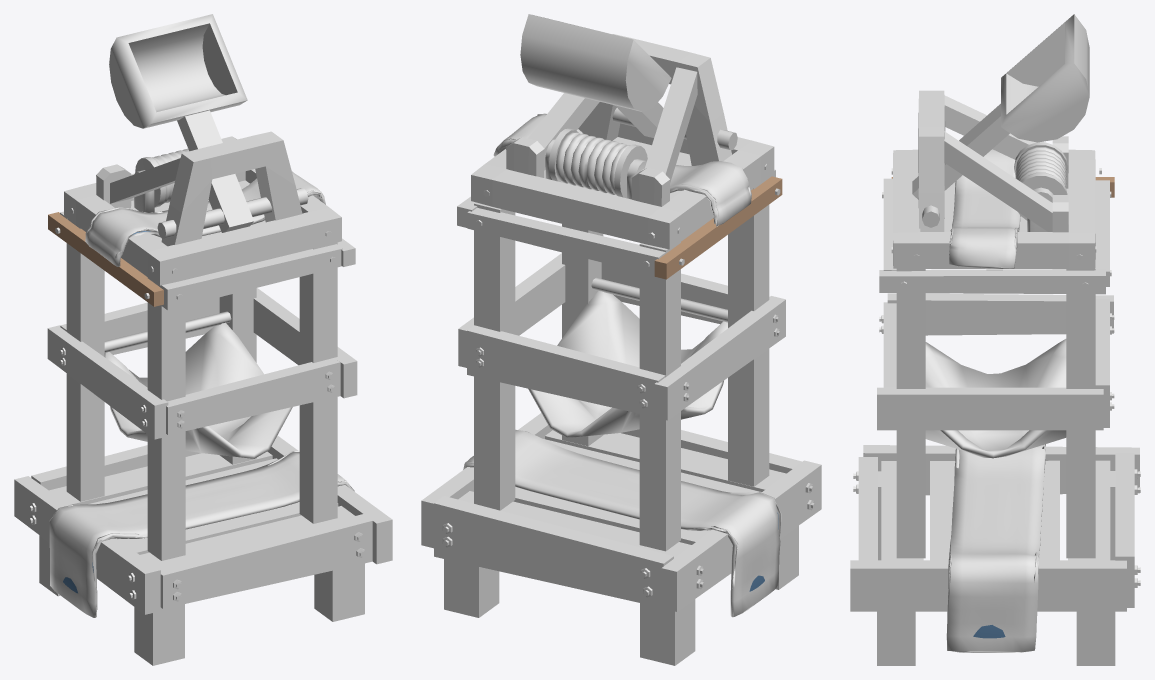
Rendered from area tower tier 3 rotate.fbx.
The picture shows the model from 3 angles, left to right: view 1: azimuth 30°, elevation 25°; view 2: azimuth 150°, elevation 25°; view 3: azimuth 270°, elevation 25°; orthographic projection. The views are drawn at different scales.
Visible parts, largest first — view 1: Cube.668, Cube.651, Cube.645; view 2: Cube.668, Cube.651, Cube.645; view 3: Cube.668, Cube.651, Cube.645.
Boxes of the visible parts, x1,y1,x2,y2 form: Cube.668: (14,211,392,665); Cube.651: (64,131,341,285); Cube.645: (109,14,253,232); Cube.668: (421,169,821,665); Cube.651: (471,34,774,249); Cube.645: (520,14,671,137); Cube.668: (850,177,1140,665); Cube.651: (891,90,1101,268); Cube.645: (912,14,1089,199).
Size of what is drawn, in the model's own units: 530 by 1055 by 484.
